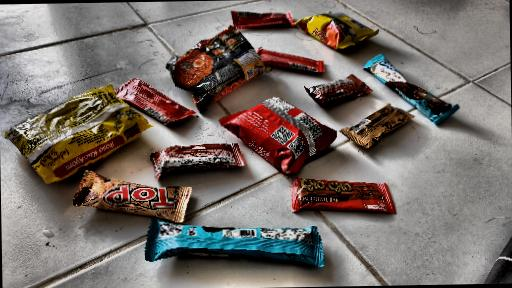chocho: (270, 177, 417, 231)
dilan: (143, 226, 331, 281)
indomie: (1, 87, 165, 142)
momotaro: (227, 93, 336, 162)
top: (72, 184, 213, 232)
